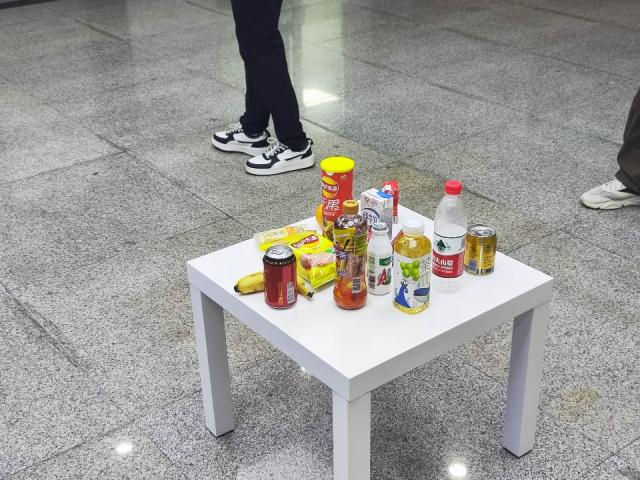Canned_drinks: (260, 242, 299, 311), (464, 224, 496, 274)
bottle: (432, 179, 468, 299)
